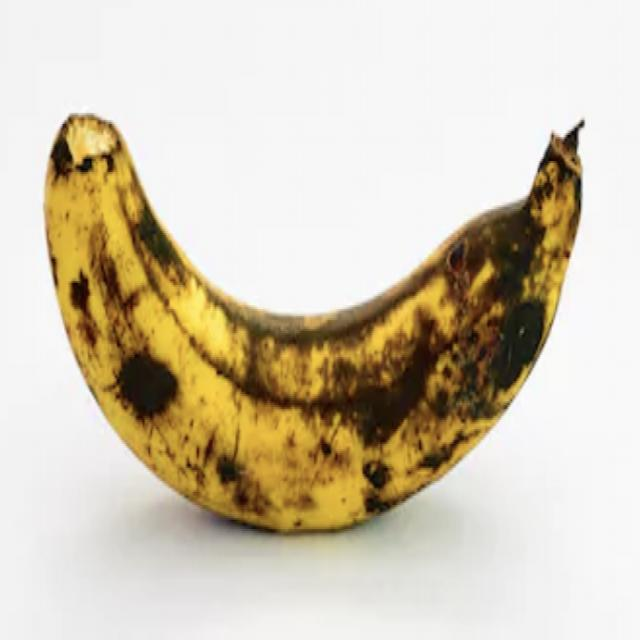rotten-banana: (47, 114, 588, 524)
